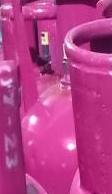cylinder: (1, 1, 112, 194)
